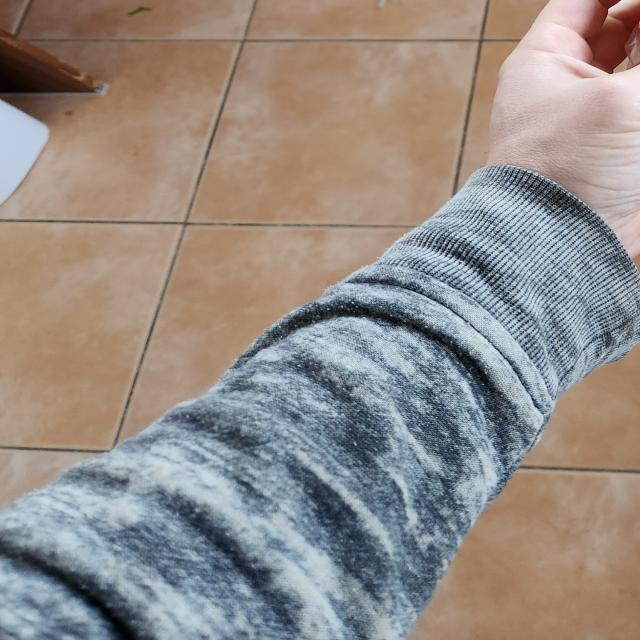noodles: (621, 0, 640, 74)
